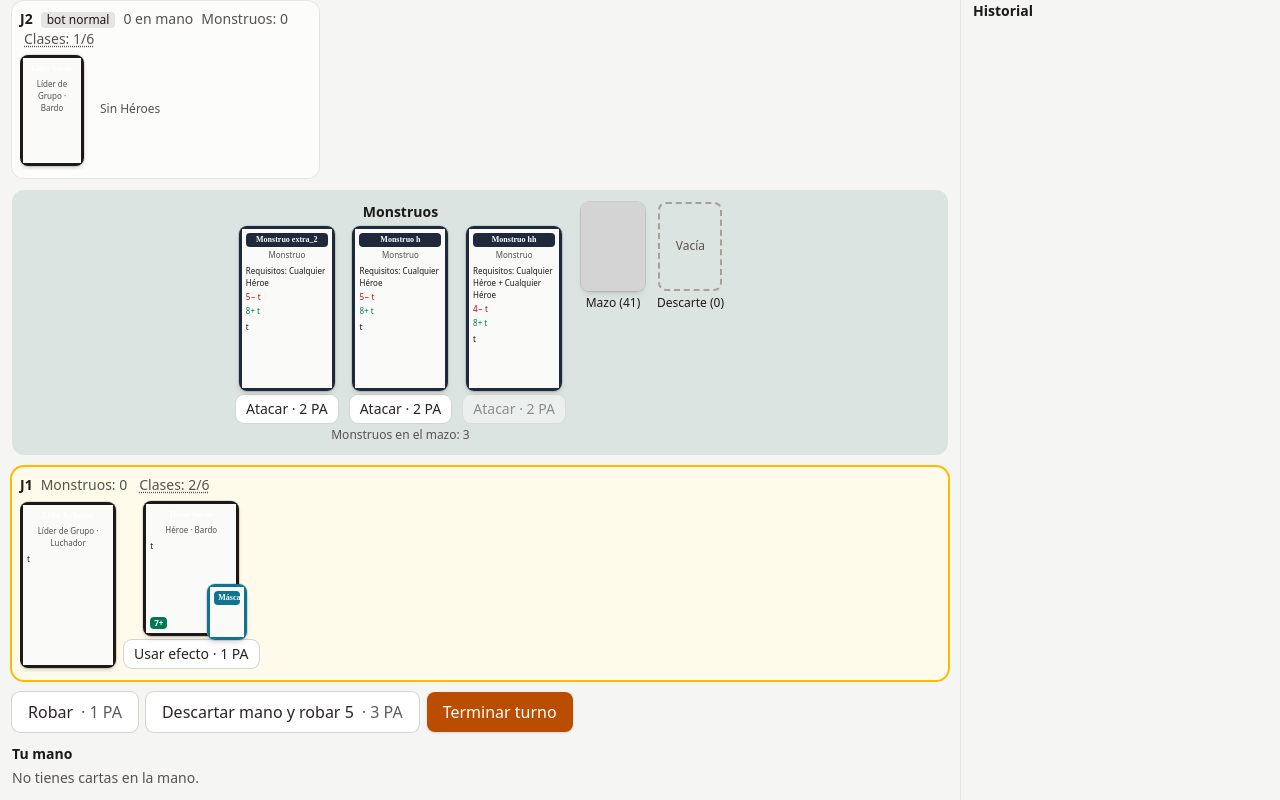
Test case: Mesa › el detalle de un Objeto equipado indica a qué Héroe va
(page scrolled)
Click the button with aria-label "Máscara de Mago". click: click(227, 612)
box: [207,584,247,640]
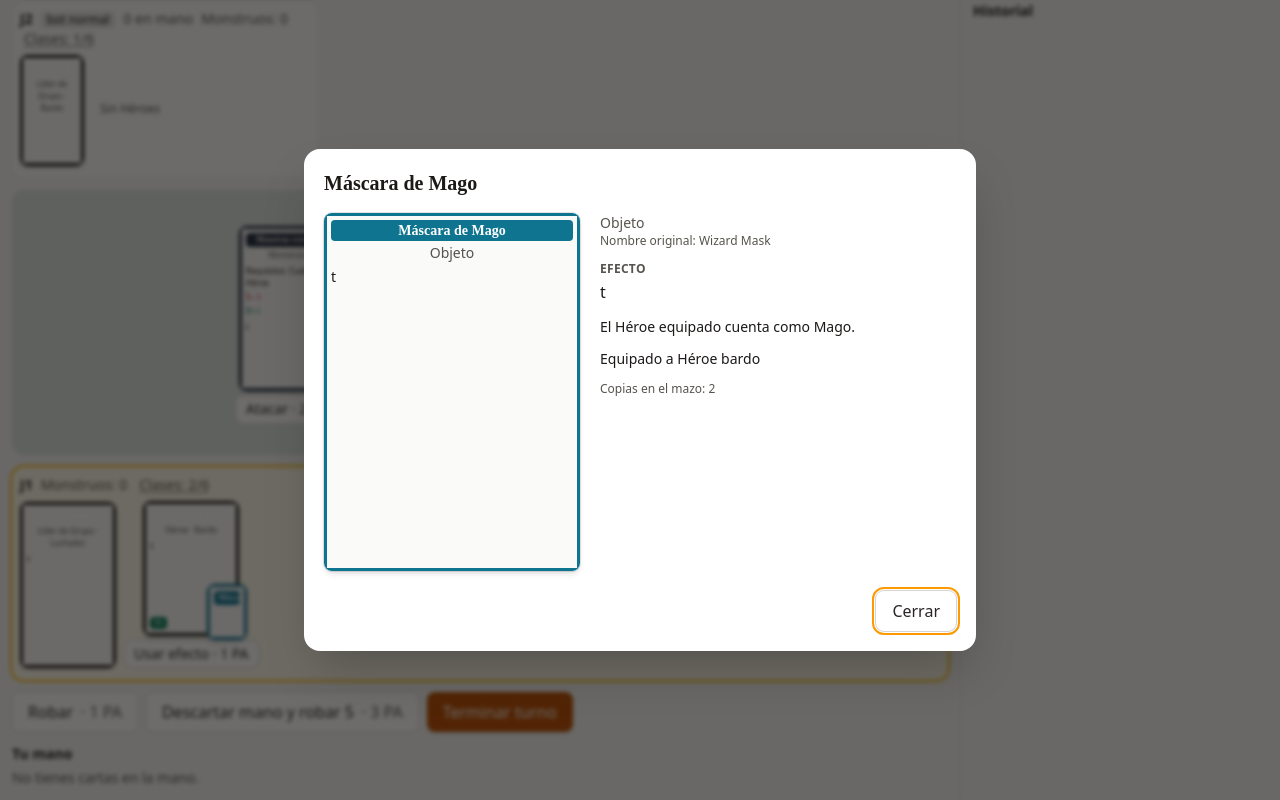
Expected: the text "Equipado a Héroe bardo" is shown, [600,349,760,368]
Expected: the text "El Héroe equipado cuenta como Mago." is shown, [600,317,855,336]
